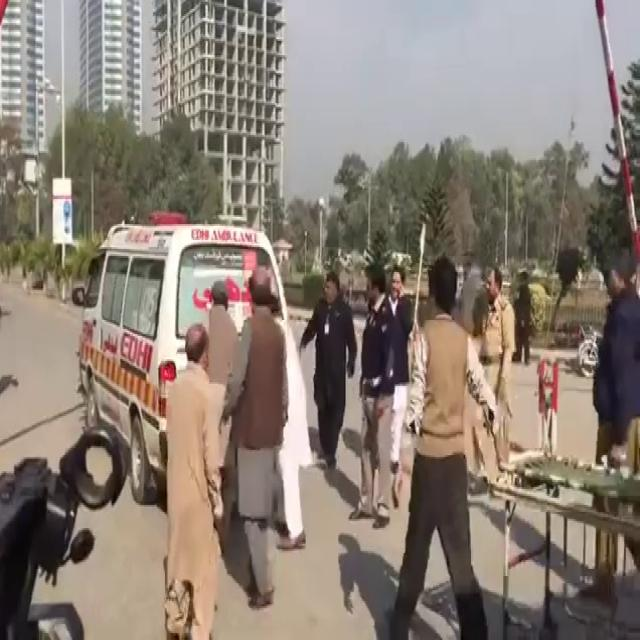ambulance: (70, 208, 312, 536)
